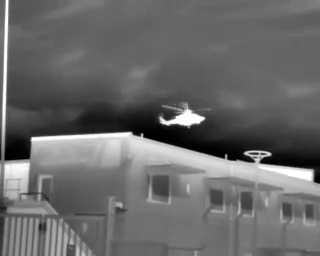HELICOPTER: (156, 96, 215, 134)
